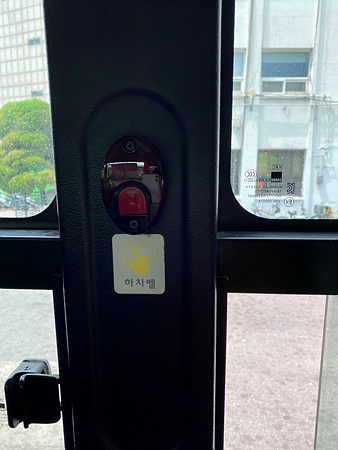bell: (103, 131, 166, 233)
